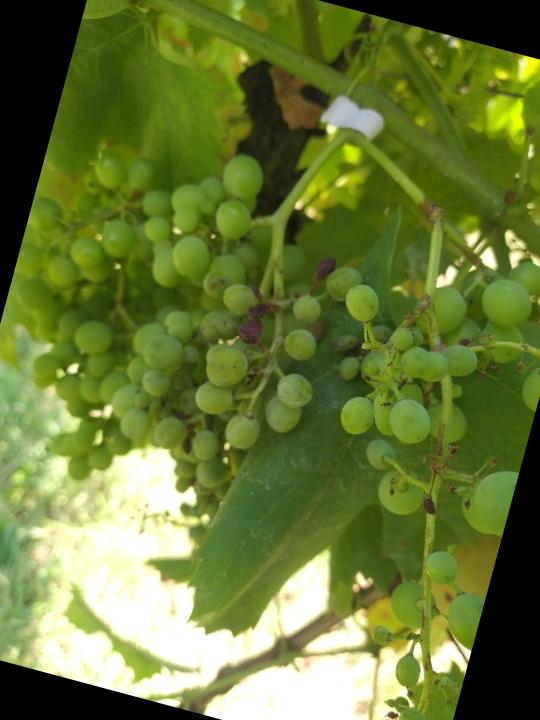grape: (74, 134, 388, 516)
